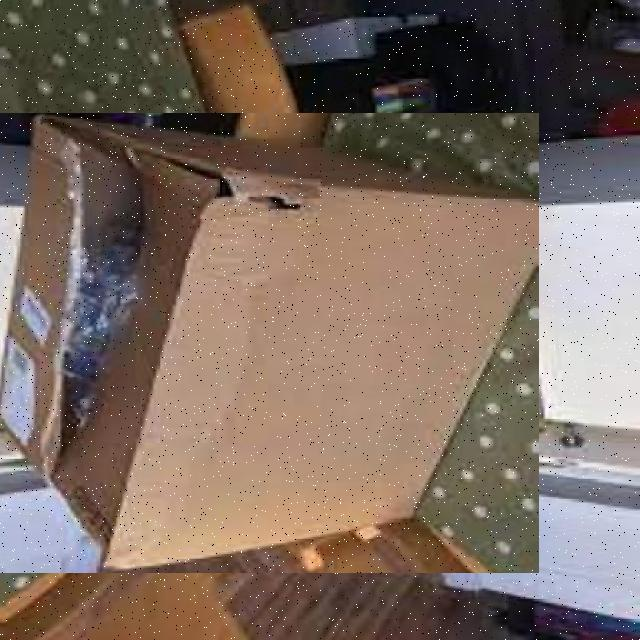defect: (0, 113, 539, 573)
